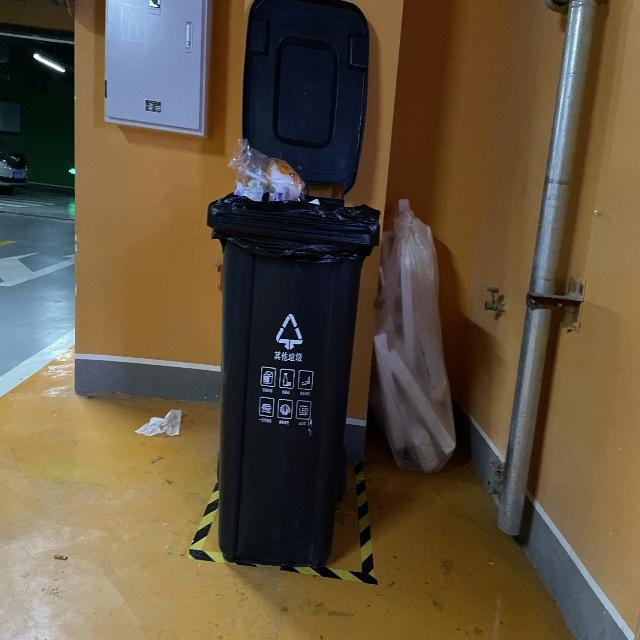garbage: (134, 408, 180, 436)
overflow: (206, 138, 380, 568)
